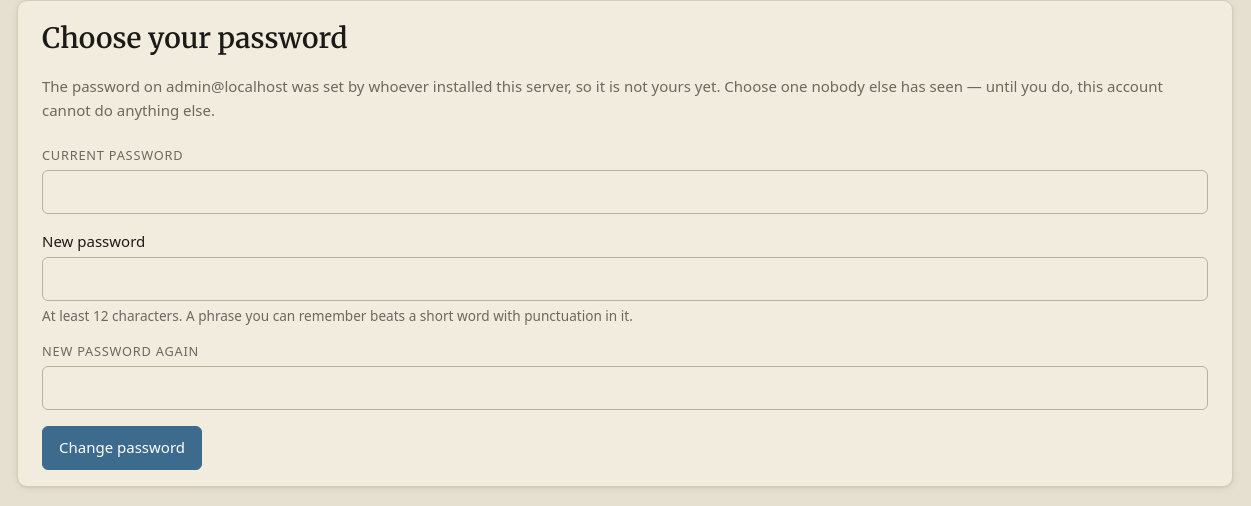
Test: changing it › sends both passwords and says what the change signed out
This screenshot has width=1251, height=506.
Type "admin" into the password field labelled "Current password" at (625, 192), box x1=42 y1=170 x2=1208 y2=214
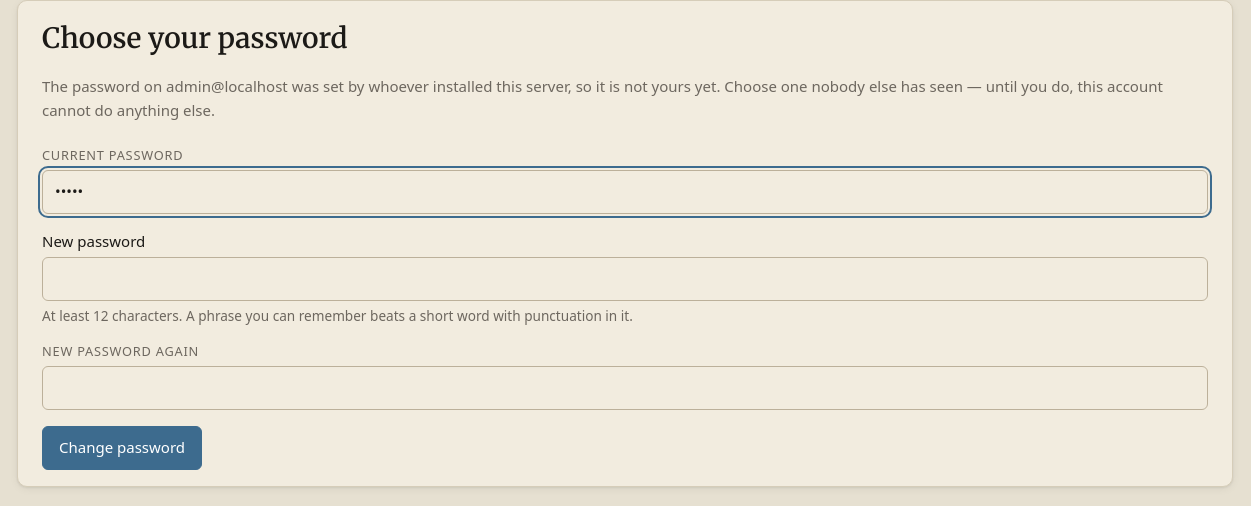
Type "a passphrase nobody else has seen" into the password field labelled "New password" at (625, 279), box x1=42 y1=257 x2=1208 y2=301
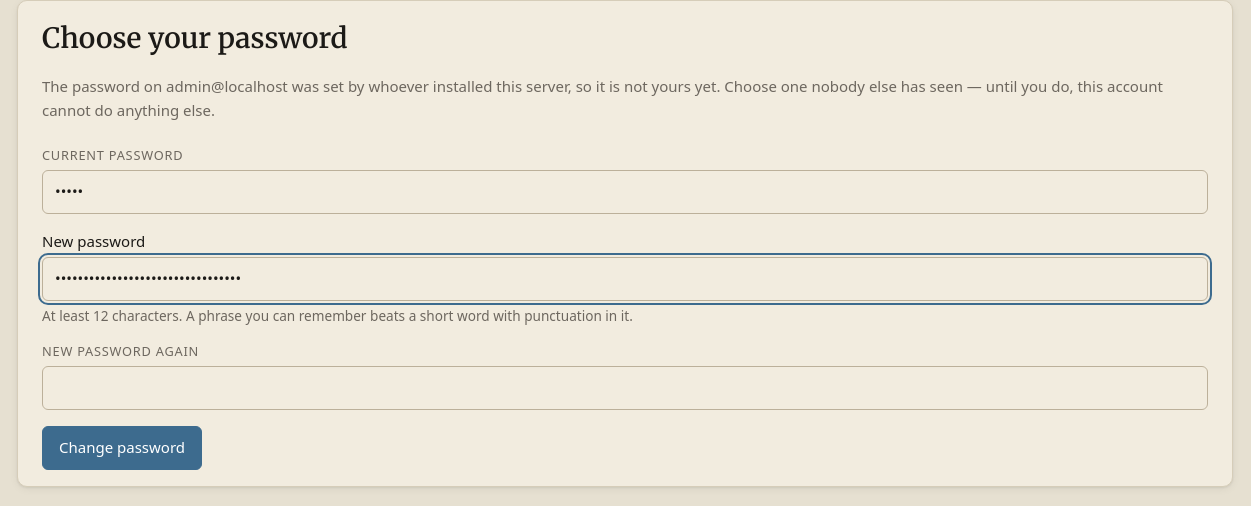
Type "a passphrase nobody else has seen" into the password field labelled "New password again" at (625, 388), box x1=42 y1=366 x2=1208 y2=410
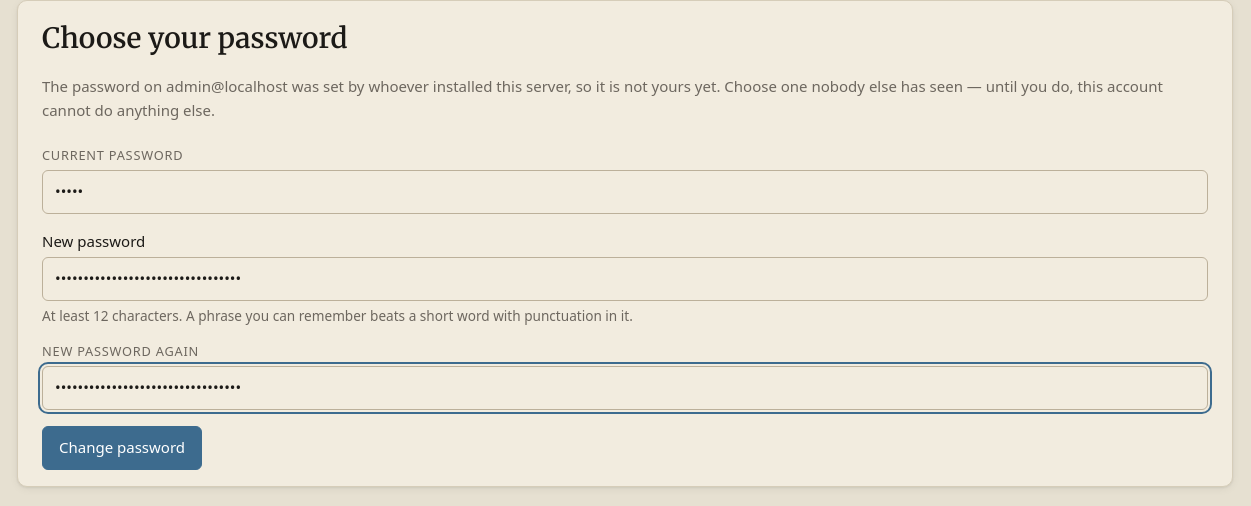
Click the button "Change password" at (122, 448), box x1=42 y1=426 x2=202 y2=470
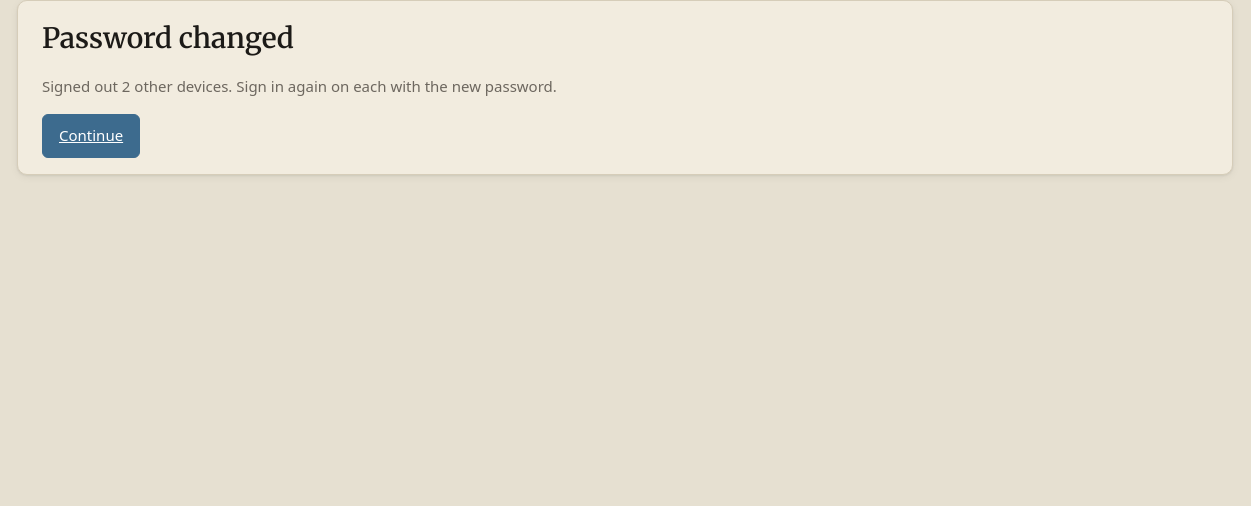
Now the heading "Password changed" is shown, box x1=42 y1=20 x2=294 y2=56
Now the text "Signed out 2 other devices" is shown, box x1=42 y1=76 x2=557 y2=96
